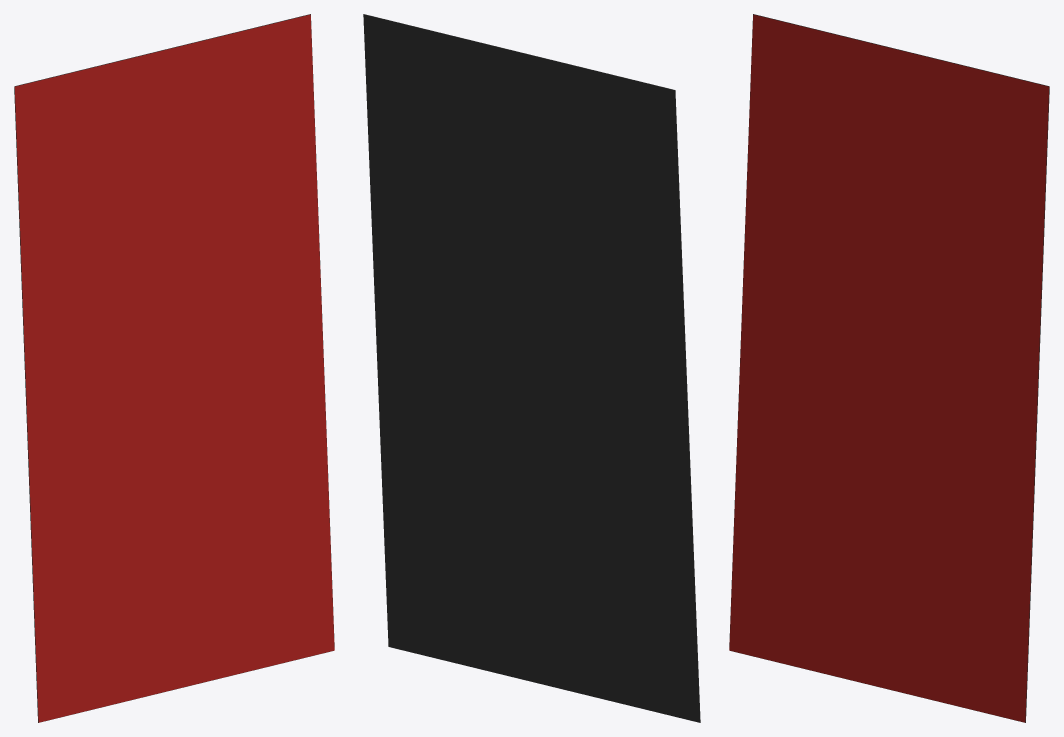
3 renders of one model, left to right at view 1: azimuth 30°, elevation 25°; view 2: azimuth 150°, elevation 25°; view 3: azimuth 330°, elevation 25°, orthographic. The views are drawn at different scales.
Visible parts, largest first — view 1: xc_mirror, acrylic-mirror; view 2: acrylic-mirror; view 3: xc_mirror, acrylic-mirror.
Part boxes in pixels (<box>): xc_mirror: <box>14,14,334,722</box>; acrylic-mirror: <box>14,14,334,722</box>; acrylic-mirror: <box>363,14,700,722</box>; xc_mirror: <box>729,14,1049,722</box>; acrylic-mirror: <box>729,14,1049,722</box>.
Bounding box in the file's own units: 1.22 × 2.43 × 0.1725.
